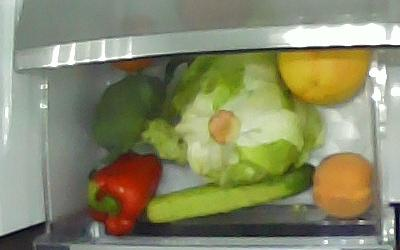broccoli: (90, 76, 188, 169)
cucumber: (143, 163, 316, 224)
lettuce: (173, 51, 325, 184)
paprika: (85, 151, 160, 235)
peach: (280, 45, 373, 106), (313, 152, 373, 219)
